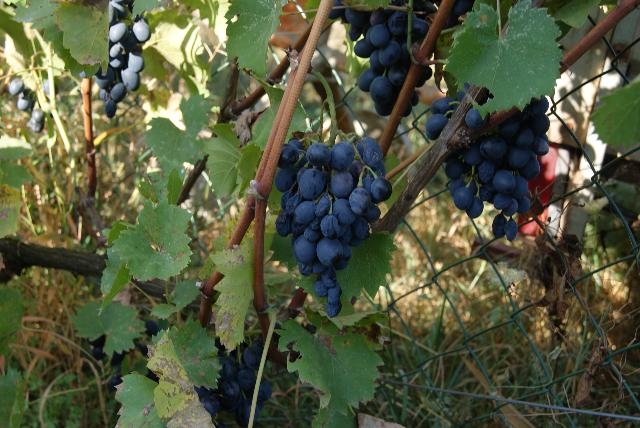grapes: (275, 138, 391, 318), (445, 96, 550, 240), (345, 7, 410, 115), (95, 0, 150, 118), (425, 98, 456, 140), (410, 15, 429, 40)
